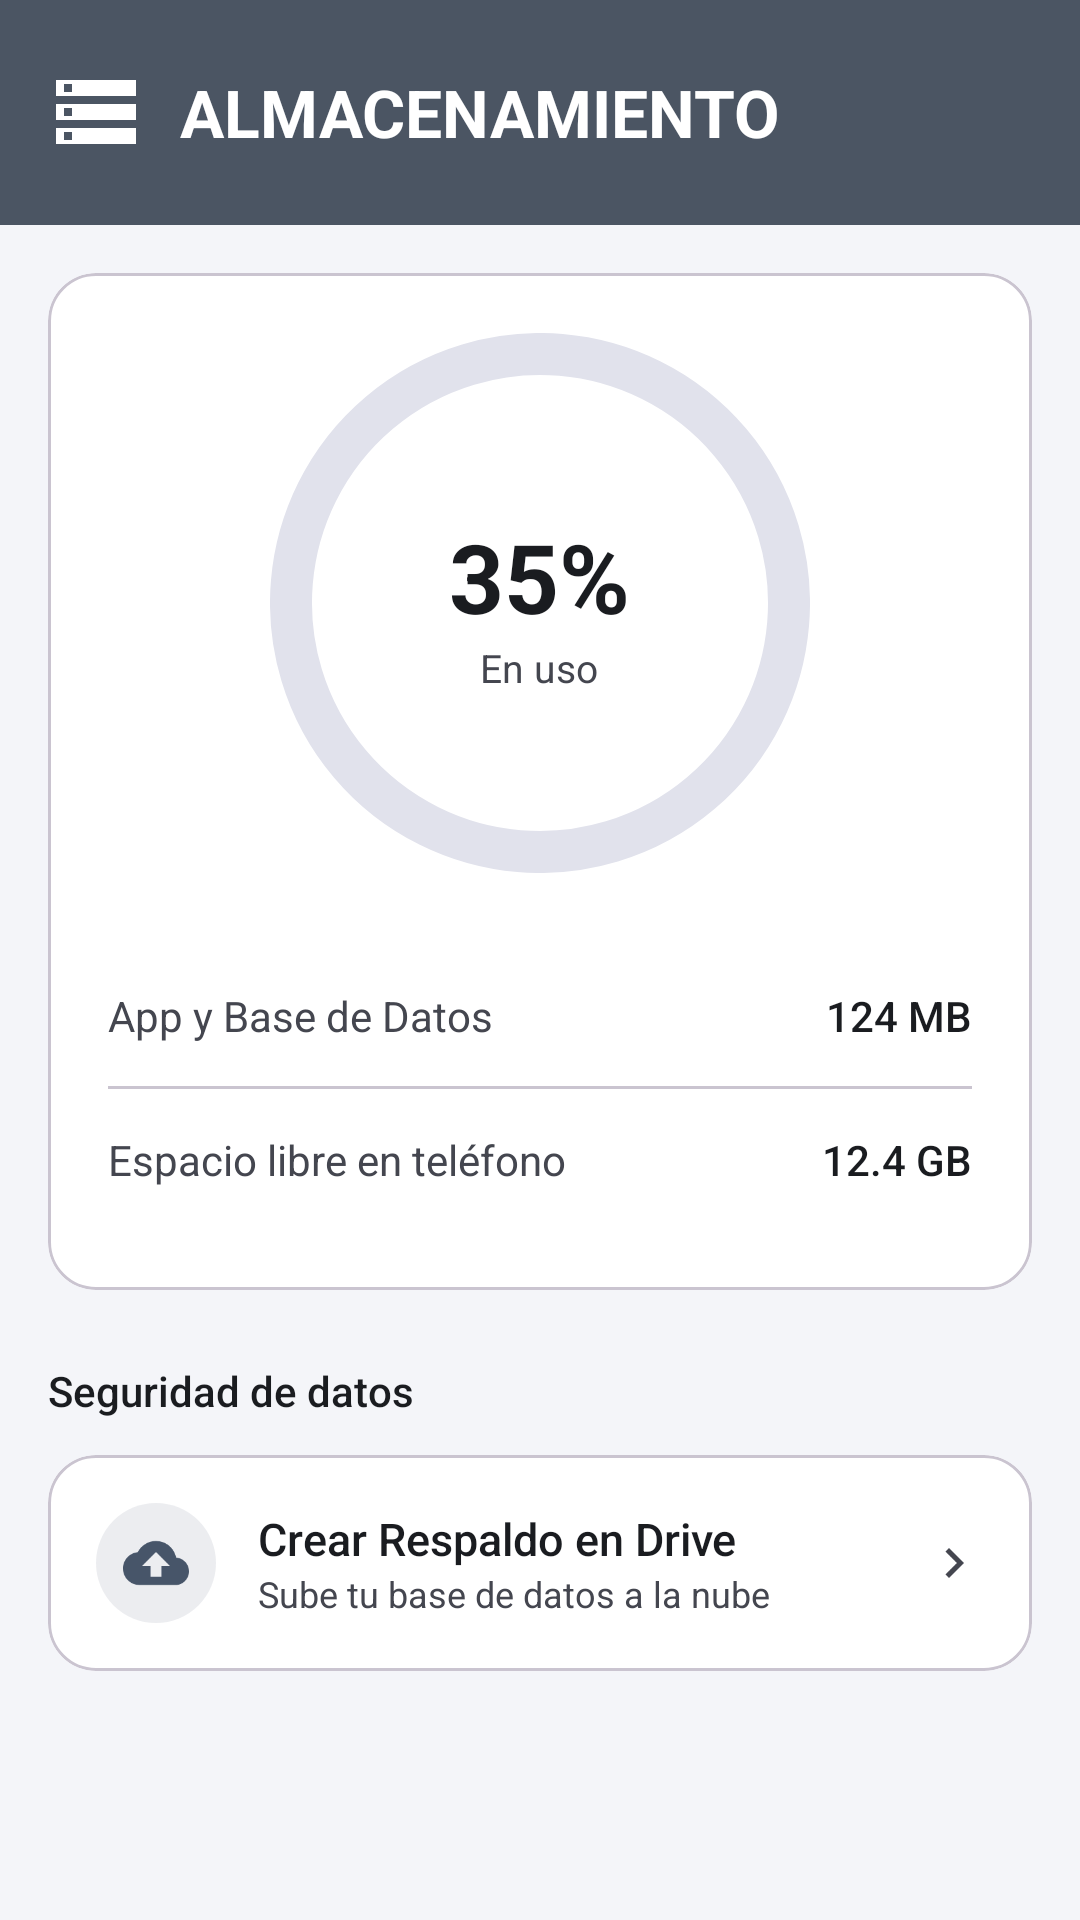

Named icons in this screenshot (1080px x 1920px) and their centers, (x,y):
chevron: (954,1563)
